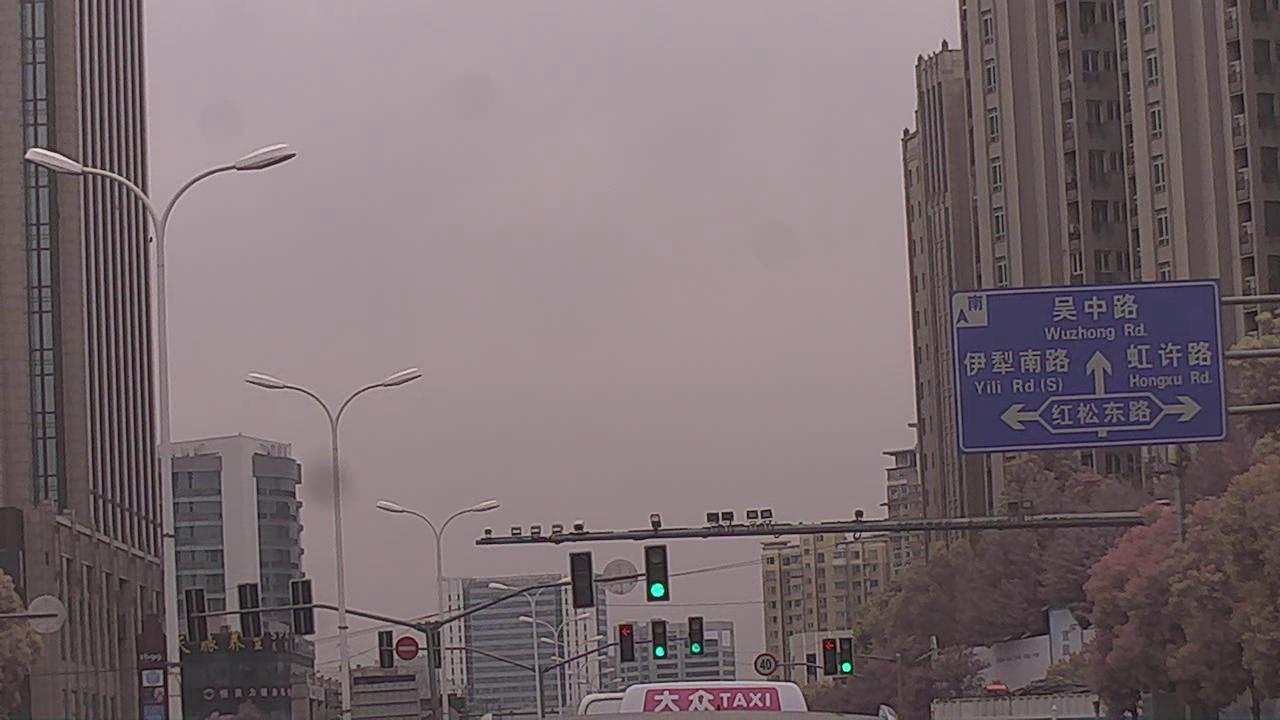traffic_light: (571, 550, 595, 611), (645, 546, 669, 601), (618, 622, 638, 664), (652, 620, 669, 660), (688, 615, 704, 656), (841, 636, 855, 677), (823, 637, 837, 675)
